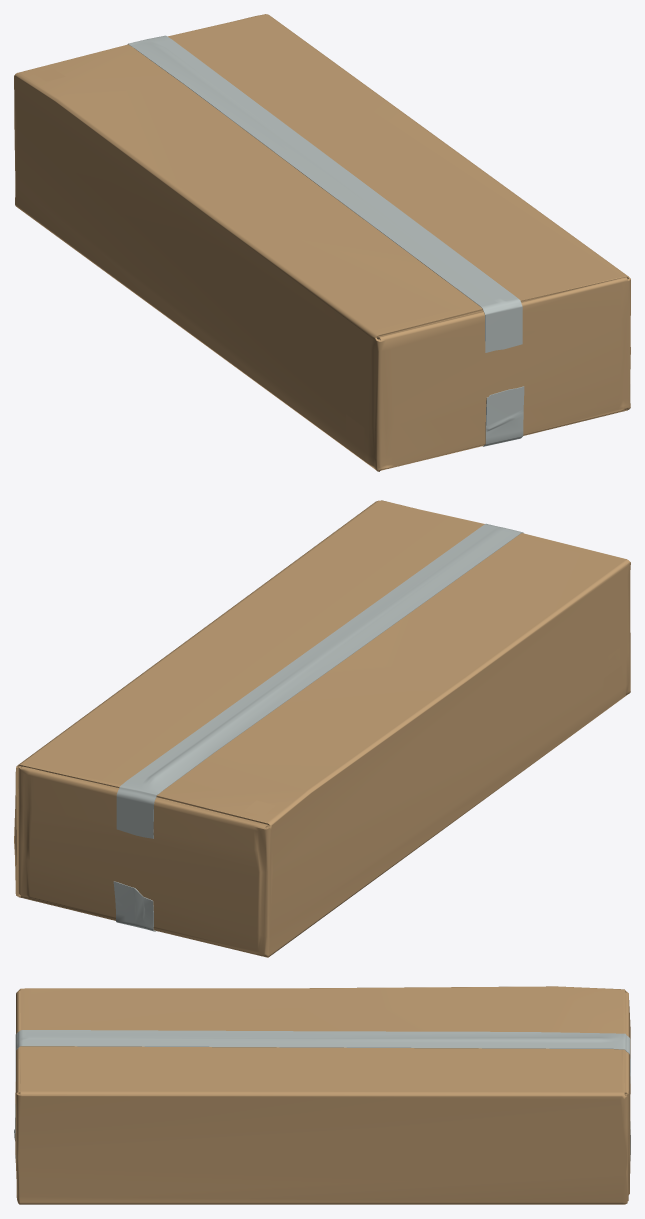
Rendered from box_long_a02.glb.
3 views of the same model, one above another, from view 1: azimuth 30°, elevation 25°; view 2: azimuth 150°, elevation 25°; view 3: azimuth 270°, elevation 25° (orthographic). The views are drawn at different scales.
Size of the model in its own units: 0.2081 by 0.1087 by 0.5147.
